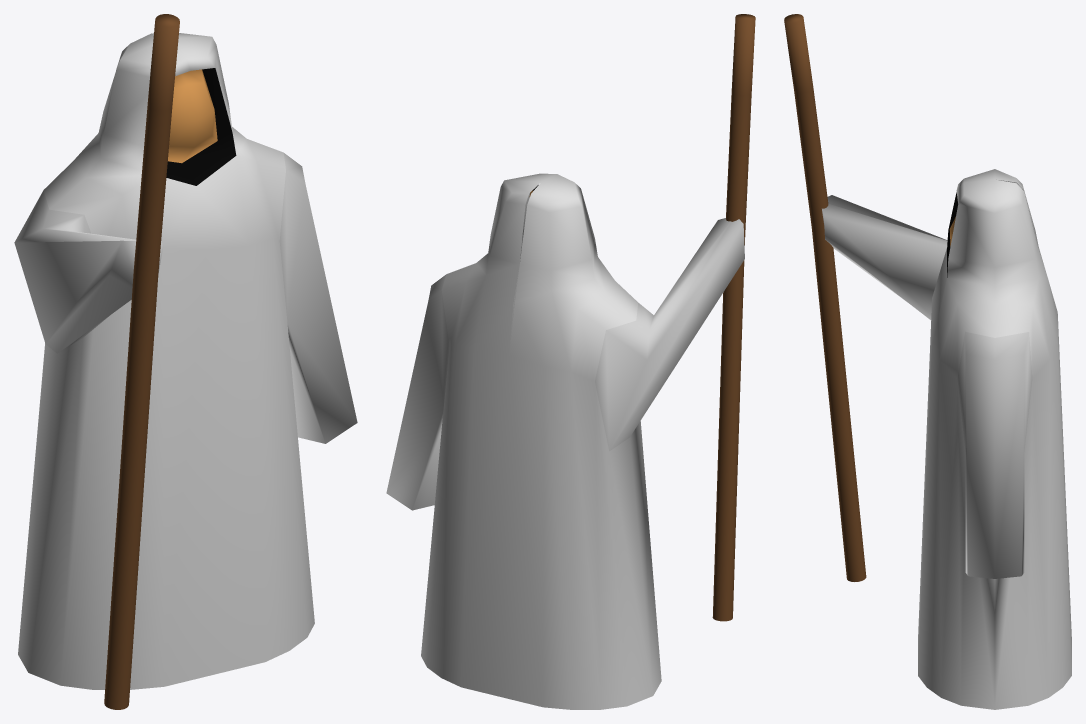
The model's file is prophet.fbx.
3 views of the same model, side by side, from view 1: azimuth 30°, elevation 25°; view 2: azimuth 150°, elevation 25°; view 3: azimuth 270°, elevation 25° (orthographic). The views are drawn at different scales.
Parts seen in each view (by area): view 1: prophet; view 2: prophet; view 3: prophet.
Boxes of the visible parts, box(x1,y1,x2,y2) form: prophet: box(14, 14, 357, 709); prophet: box(386, 14, 755, 709); prophet: box(784, 14, 1071, 709).
Bounding box in the file's own units: 0.21 × 0.4453 × 0.1966.
